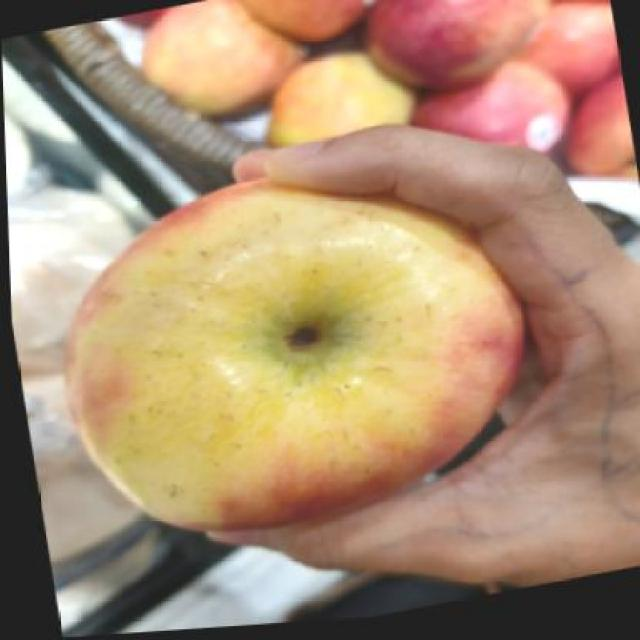Fresh Apple: (56, 177, 524, 545)
